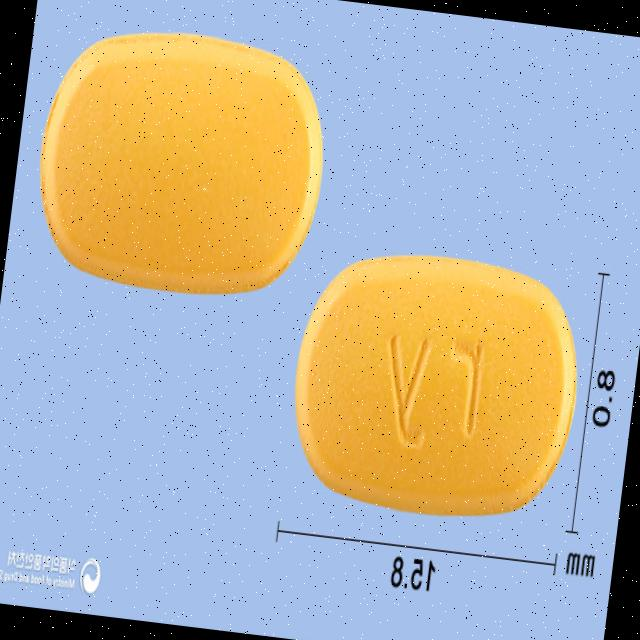Clarithromycin Tab- Reyon: (280, 237, 592, 534)
